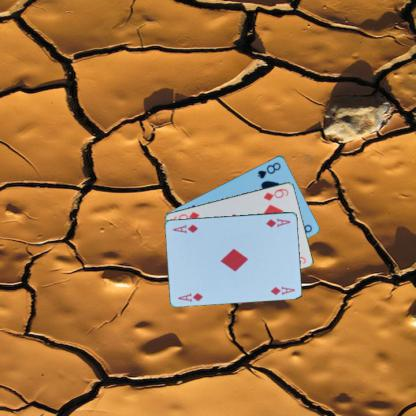6d: (261, 186, 290, 202)
8s: (255, 160, 282, 180)
Ad: (176, 290, 204, 303), (263, 216, 292, 228)
